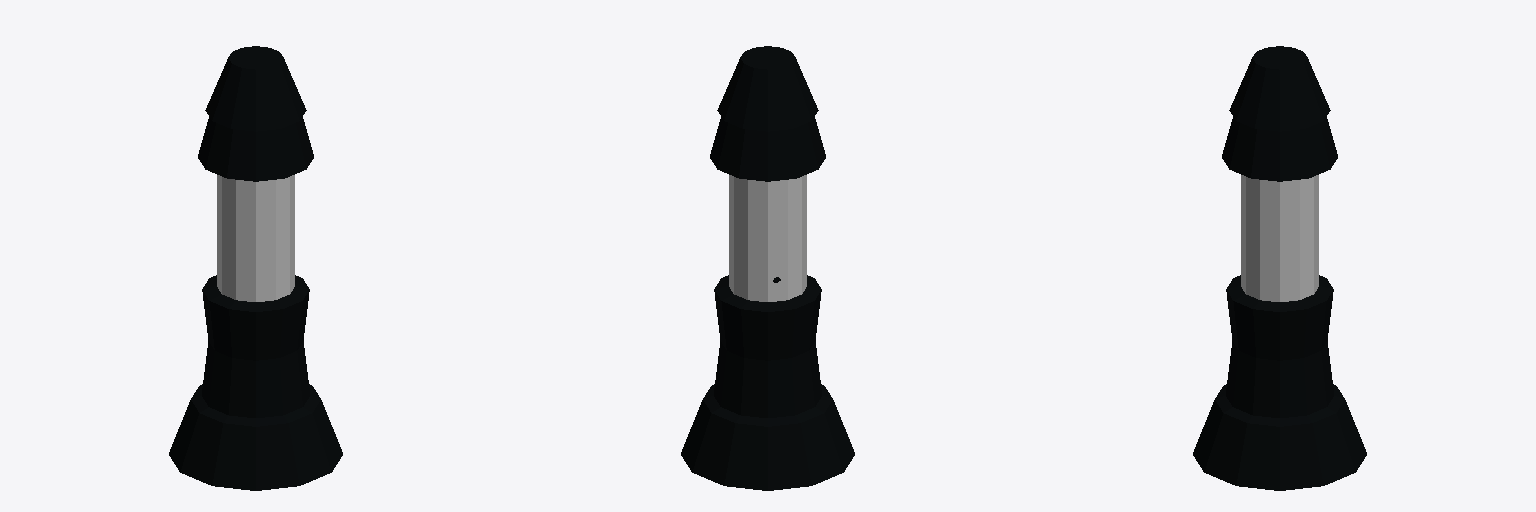
Rendered from Lava_Lamp.obj.
The picture shows the model from 3 angles: view 1: azimuth 30°, elevation 25°; view 2: azimuth 150°, elevation 25°; view 3: azimuth 270°, elevation 25°; orthographic projection.
Visible parts, largest first — view 1: Lava_Lamp; view 2: Lava_Lamp; view 3: Lava_Lamp.
Boxes of the visible parts, <box> form: Lava_Lamp: <box>169,46,342,490</box>; Lava_Lamp: <box>681,46,854,490</box>; Lava_Lamp: <box>1193,46,1366,490</box>.
Size of the model in its own units: 0.2579 by 0.6442 by 0.2579.